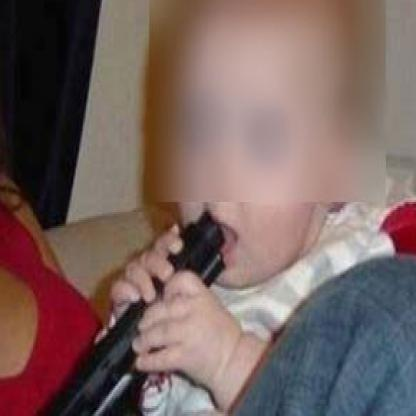gun: (0, 208, 233, 415)
